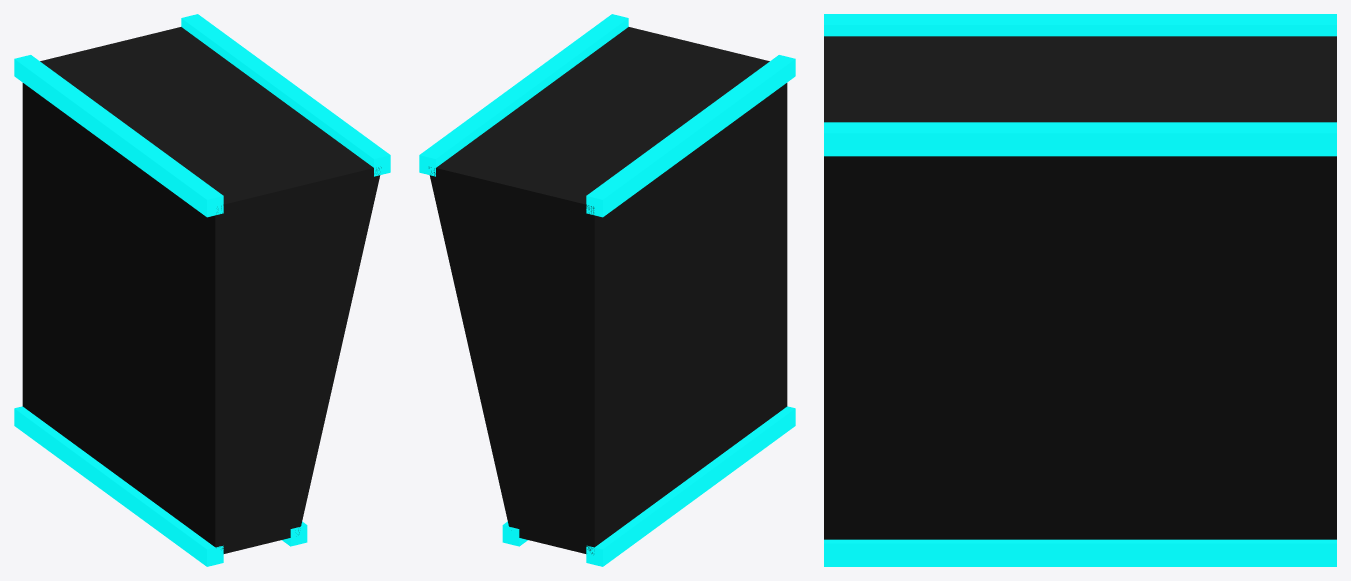
3 renders of one model, left to right at view 1: azimuth 30°, elevation 25°; view 2: azimuth 150°, elevation 25°; view 3: azimuth 270°, elevation 25°, orthographic. The views are drawn at different scales.
Parts seen in each view (by area): view 1: Cube.004; view 2: Cube.004; view 3: Cube.004.
Part boxes in pixels (box(x1,y1,x2,y2)): Cube.004: box(14, 14, 390, 566); Cube.004: box(419, 14, 795, 566); Cube.004: box(824, 14, 1336, 566).
Bounding box in the file's own units: 1.1 × 2.1 × 2.
